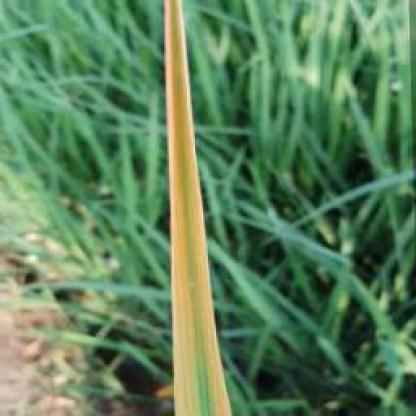Tungro: (165, 3, 235, 416)
